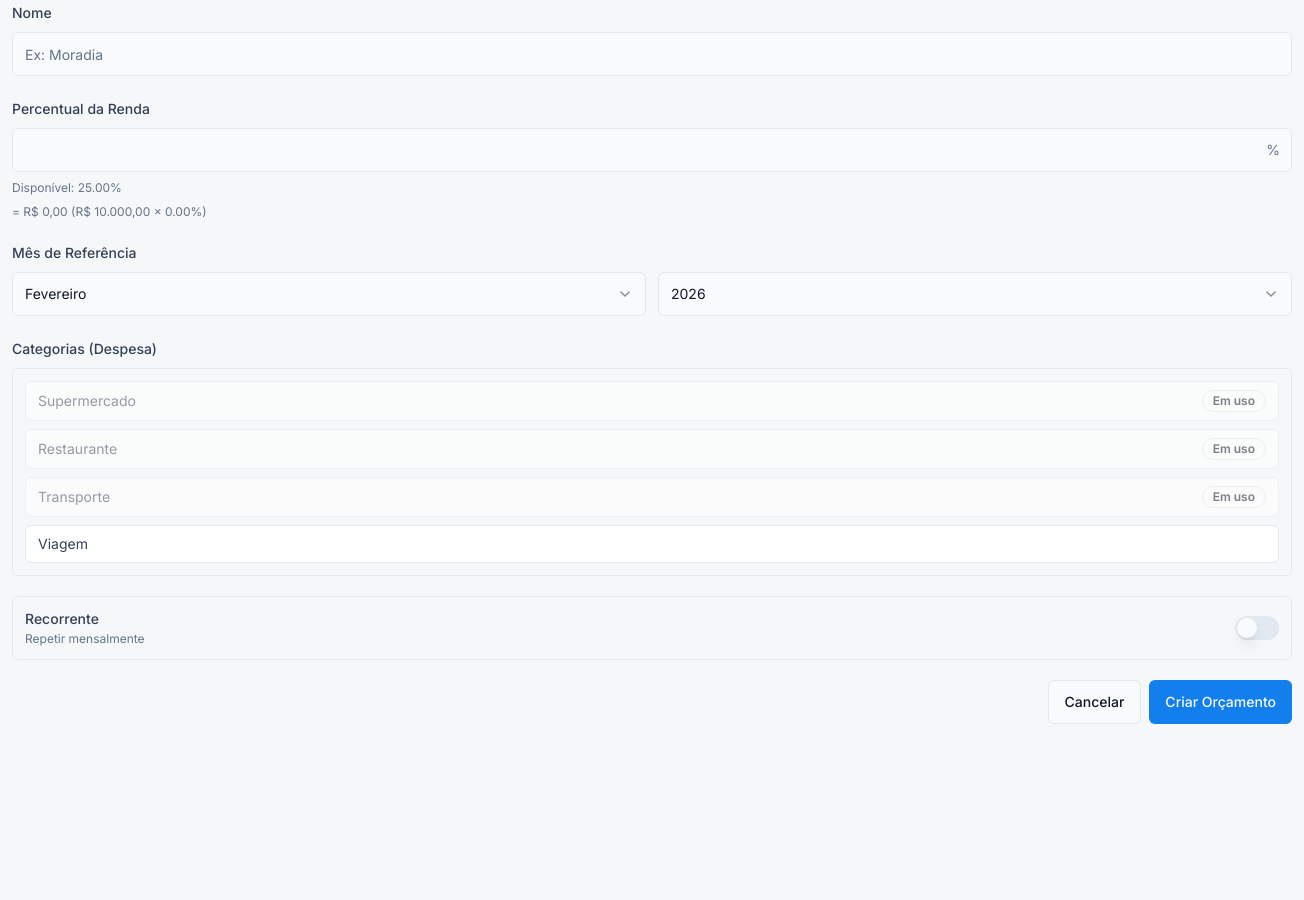
Test case: BudgetForm › should show validation errors for empty name
Click the button "Criar Orçamento" at (1221, 702), box [1149,680,1292,724]
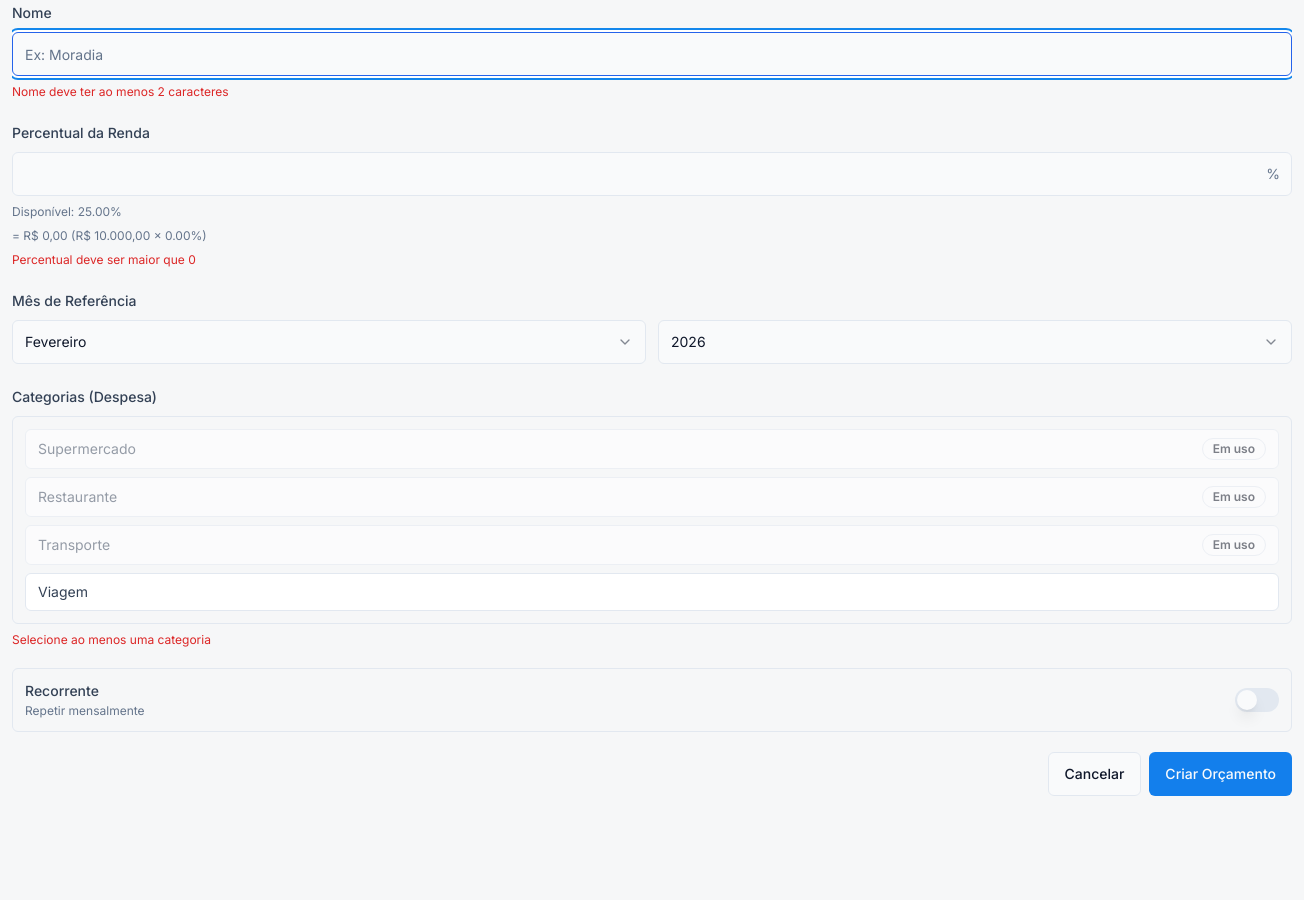
Result: the text "Nome deve ter ao menos 2 caracteres" is shown at [12,84,229,99]
